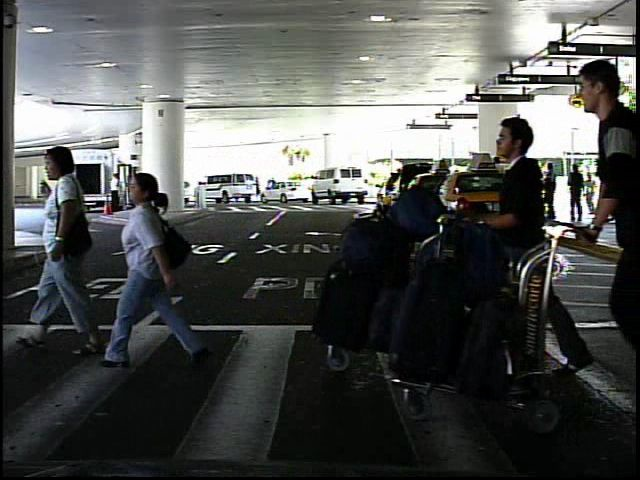person: (459, 102, 565, 394), (40, 137, 124, 358), (106, 158, 184, 382), (105, 172, 124, 222), (585, 173, 598, 216), (262, 178, 273, 204)
